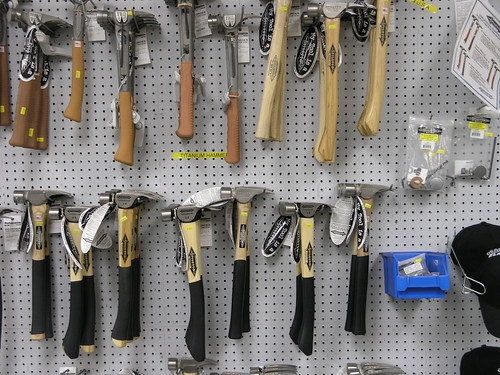hammer: (336, 184, 398, 338), (99, 186, 156, 341), (164, 201, 218, 359), (281, 195, 328, 356), (11, 185, 60, 338), (221, 184, 270, 335)
